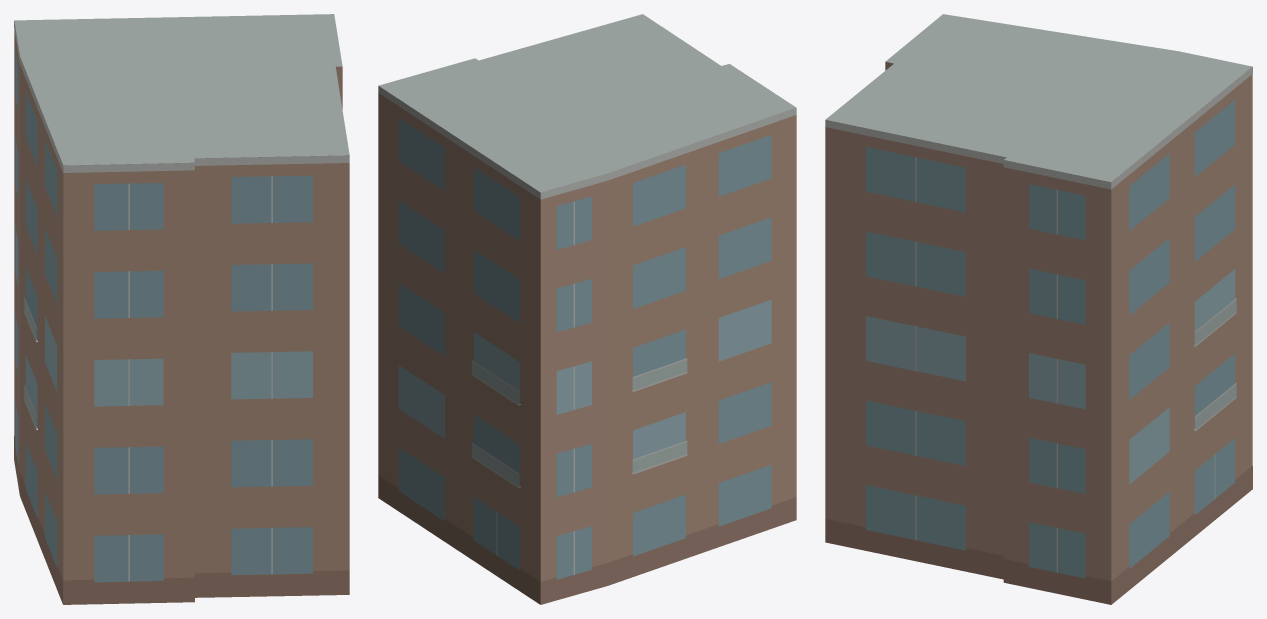
File: survey-upis-32875132.glb
3 views of the same model, side by side, from view 1: azimuth 30°, elevation 25°; view 2: azimuth 150°, elevation 25°; view 3: azimuth 270°, elevation 25° (orthographic). The views are drawn at different scales.
Parts seen in each view (by area): view 1: survey-upis-32875132.tmp; view 2: survey-upis-32875132.tmp; view 3: survey-upis-32875132.tmp.
Boxes of the visible parts, x1,y1,x2,y2 form: survey-upis-32875132.tmp: (14, 14, 349, 604); survey-upis-32875132.tmp: (378, 14, 796, 604); survey-upis-32875132.tmp: (825, 14, 1252, 604).
Size of the model in its own units: 12.04 by 14.1 by 12.93.
